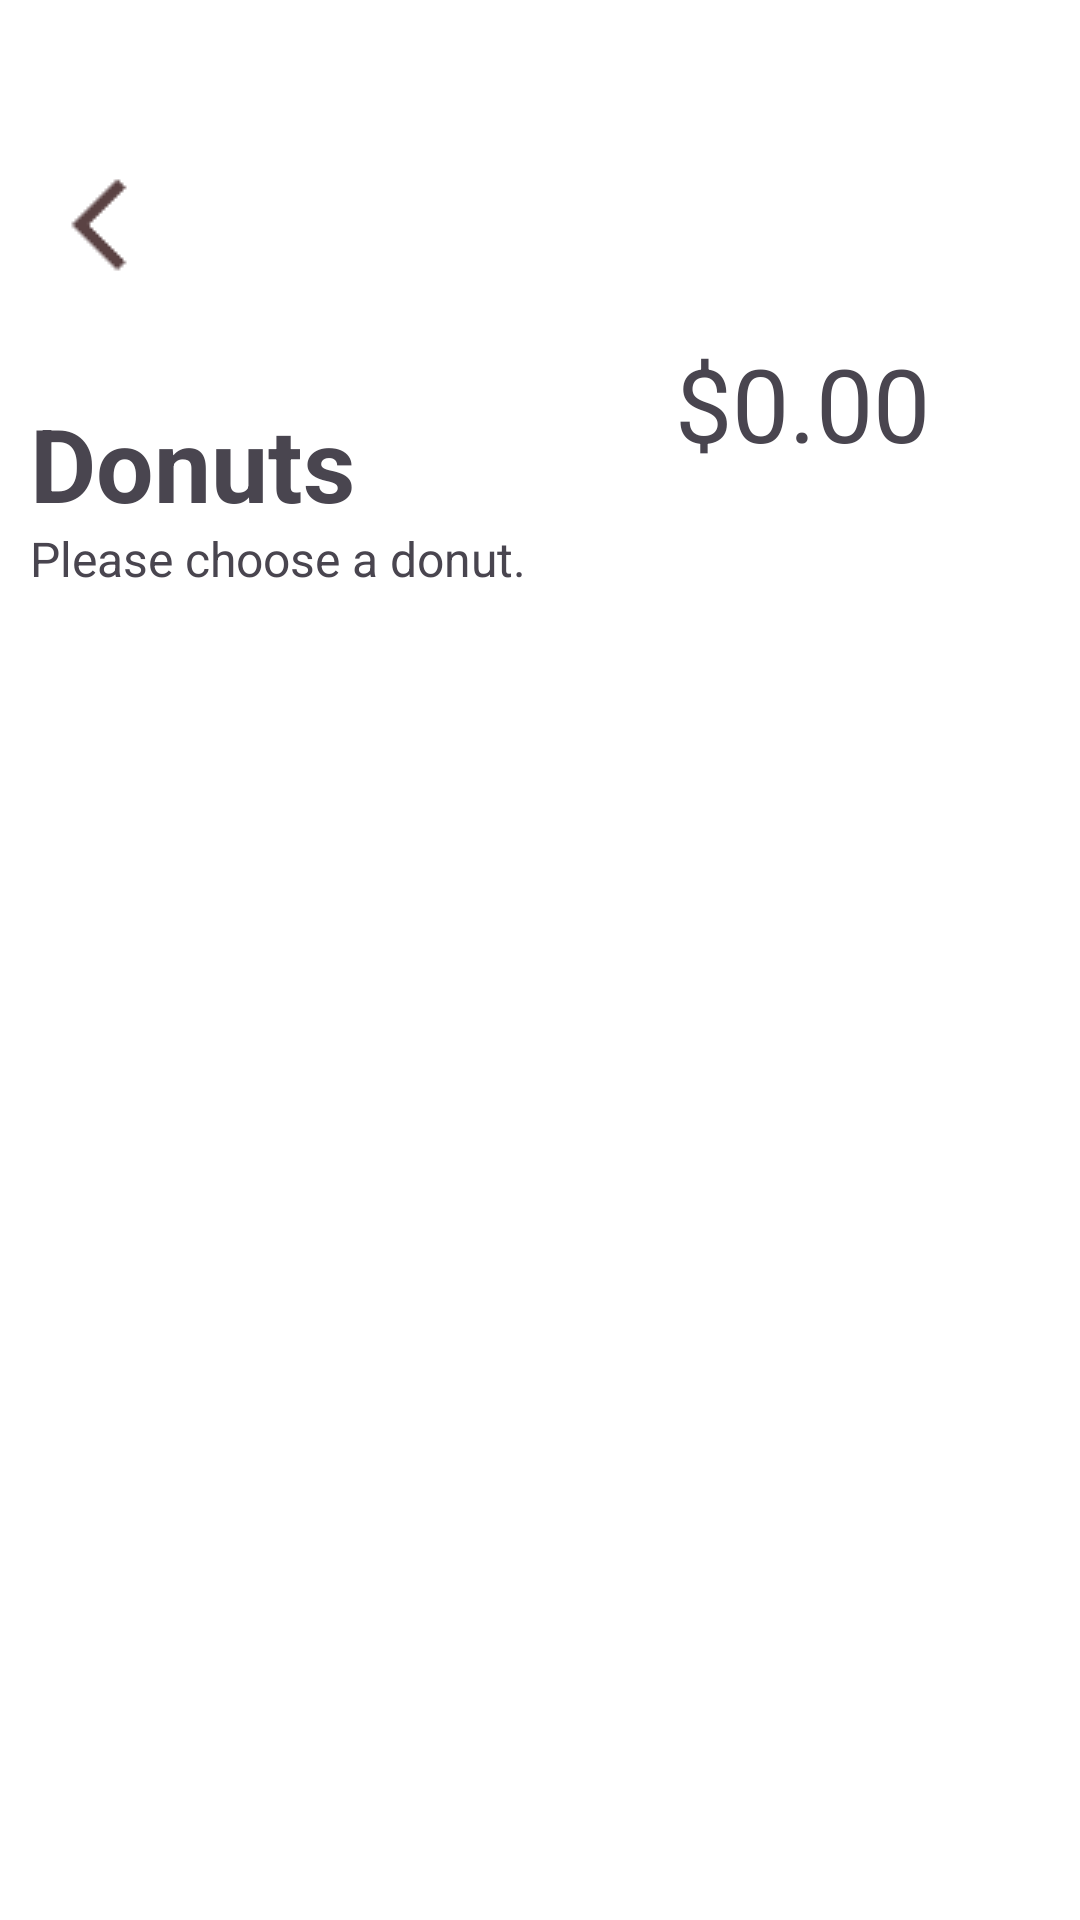

Locate icon controls on the screen. Image size 1080w x 1920h, boxes as (x1, y1, x2, y2).
back: (71, 179, 127, 271)
